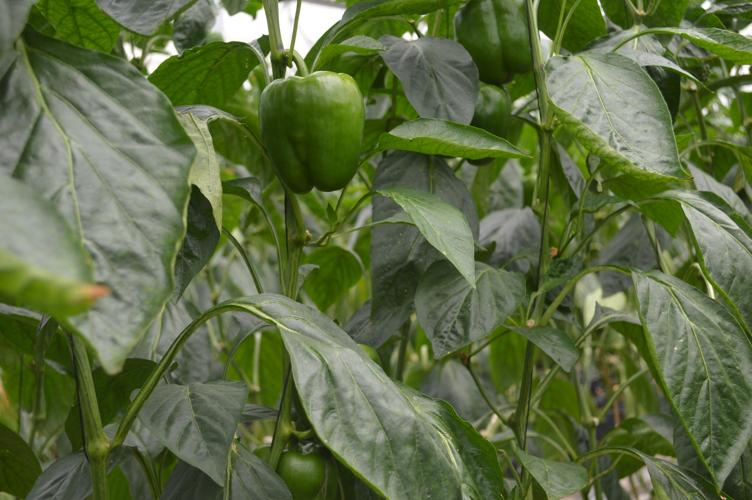BellPepper: (254, 67, 375, 203), (450, 3, 538, 89), (453, 86, 525, 171), (247, 433, 326, 500)
